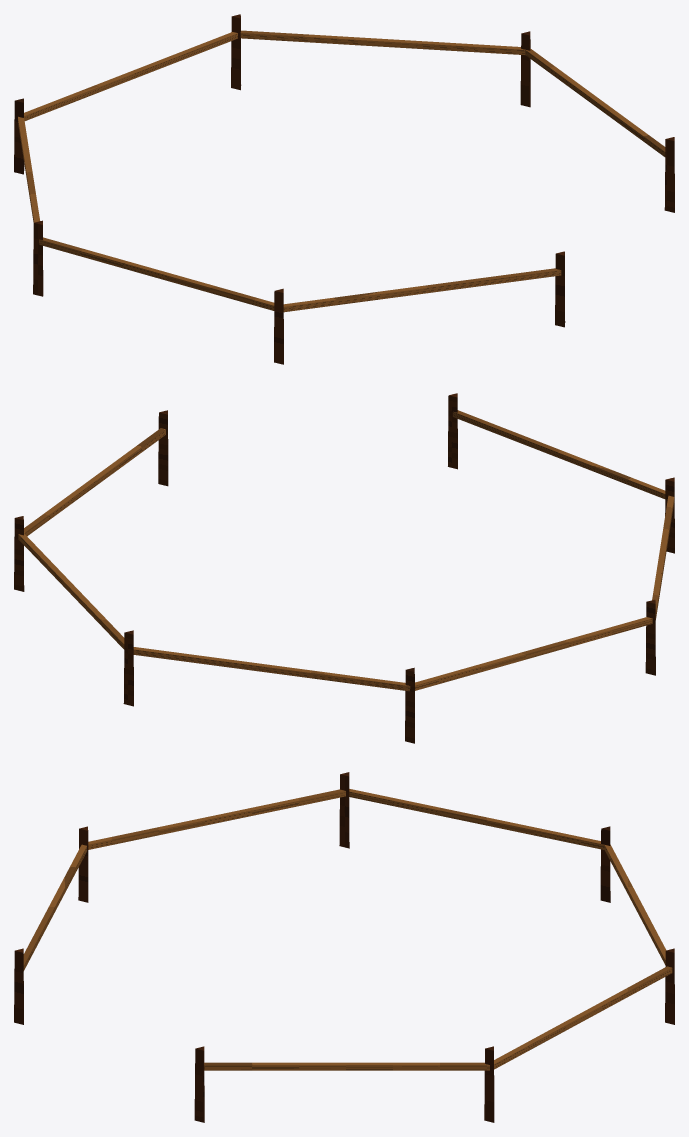
The model's file is corral.glb.
The picture shows the model from 3 angles, top to bottom: view 1: azimuth 30°, elevation 25°; view 2: azimuth 150°, elevation 25°; view 3: azimuth 270°, elevation 25°; orthographic projection.
Visible parts, largest first — view 1: travesanos, postes; view 2: travesanos, postes; view 3: travesanos, postes.
Part boxes in pixels (<box>): travesanos: <box>18,30,665,312</box>; postes: <box>14,14,674,364</box>; travesanos: <box>18,410,674,691</box>; postes: <box>14,393,674,743</box>; travesanos: <box>23,789,672,1070</box>; postes: <box>14,772,674,1122</box>.
Size of the model in its own units: 10 by 1.2 by 10.
1 material, 1 textured.
